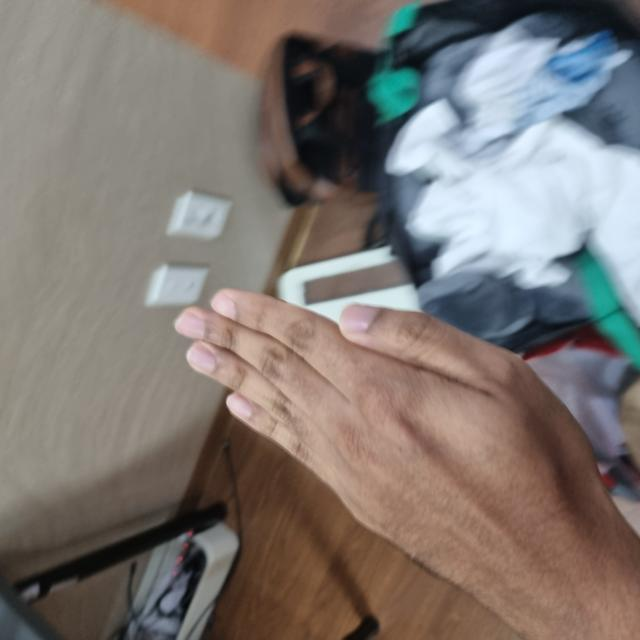Paper: (27, 173, 349, 610)
